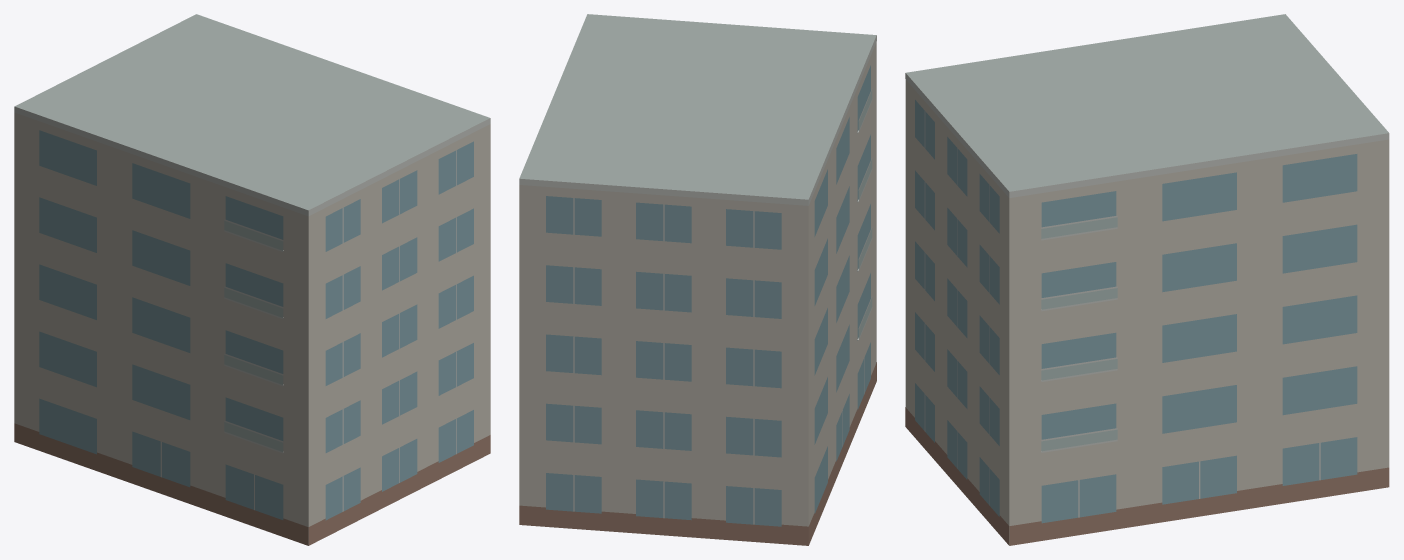
Rendered from survey-upis-32981320.glb.
The picture shows the model from 3 angles, left to right: view 1: azimuth 30°, elevation 25°; view 2: azimuth 150°, elevation 25°; view 3: azimuth 270°, elevation 25°; orthographic projection. The views are drawn at different scales.
Visible parts, largest first — view 1: survey-upis-32981320.tmp; view 2: survey-upis-32981320.tmp; view 3: survey-upis-32981320.tmp.
Boxes of the visible parts, x1,y1,x2,y2 form: survey-upis-32981320.tmp: (14, 14, 490, 545); survey-upis-32981320.tmp: (519, 14, 876, 545); survey-upis-32981320.tmp: (905, 14, 1389, 545).
Size of the model in its own units: 14.71 by 13.65 by 16.92.
